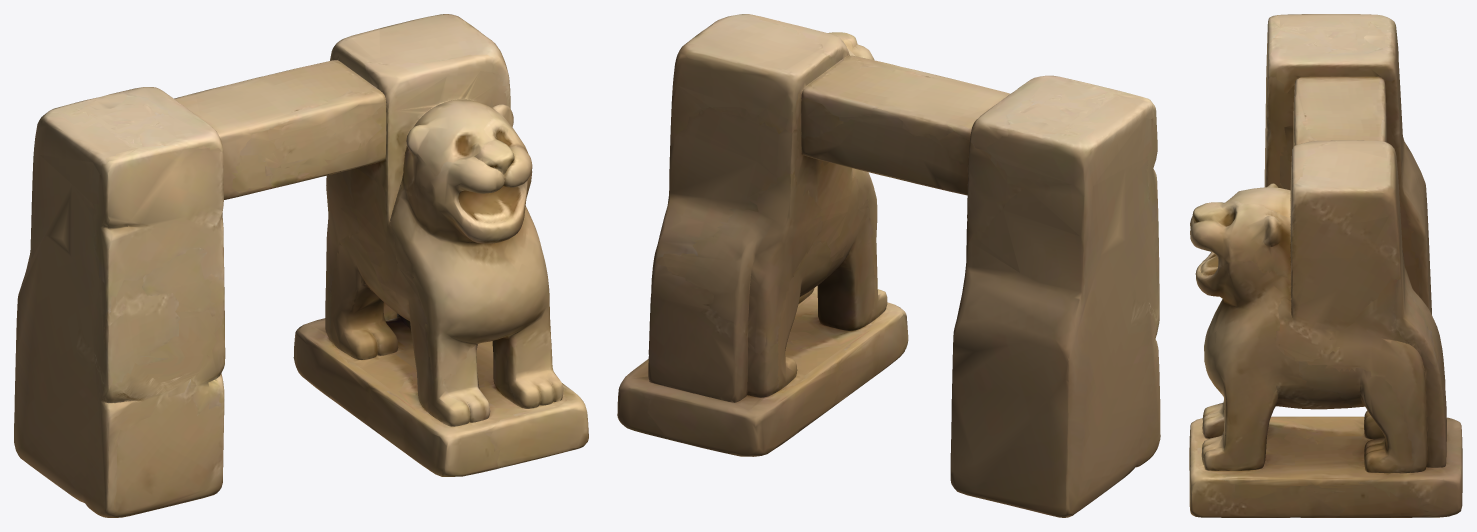
File: lion_gate_pbr.glb
3 renders of one model, left to right at view 1: azimuth 30°, elevation 25°; view 2: azimuth 150°, elevation 25°; view 3: azimuth 270°, elevation 25°, orthographic. The views are drawn at different scales.
Parts seen in each view (by area): view 1: model.005; view 2: model.005; view 3: model.005.
Boxes of the visible parts, box(x1,y1,x2,y2) form: model.005: box(14, 14, 588, 517); model.005: box(617, 14, 1160, 517); model.005: box(1189, 14, 1462, 517).
Size of the model in its own units: 1.61 by 1.25 by 0.9729.
Materials: 1 (1 with a texture image).
